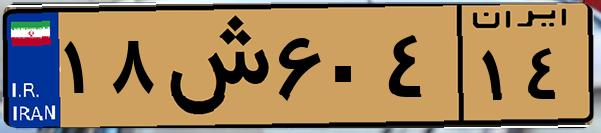0: (330, 28, 385, 110)
1: (57, 26, 110, 100), (475, 38, 525, 113)
4: (385, 28, 445, 110), (525, 38, 570, 115)
6: (270, 28, 330, 110)
8: (110, 28, 158, 98)
ش: (158, 12, 270, 120)
